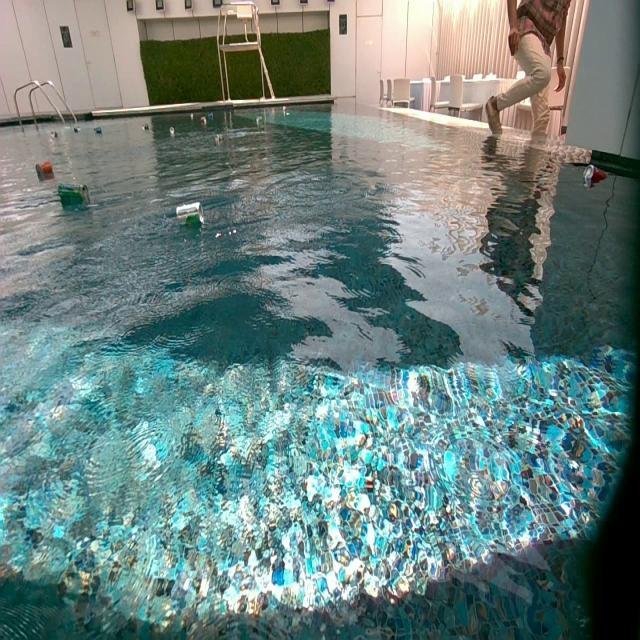Cans: (175, 202, 202, 229), (582, 162, 606, 185), (59, 183, 88, 202), (36, 162, 52, 178), (215, 134, 223, 146), (142, 122, 150, 131), (255, 115, 263, 124), (96, 128, 104, 136), (49, 132, 57, 140), (73, 127, 80, 135), (208, 112, 215, 120), (200, 117, 207, 125), (170, 128, 176, 137), (283, 108, 289, 116), (190, 113, 194, 119)
